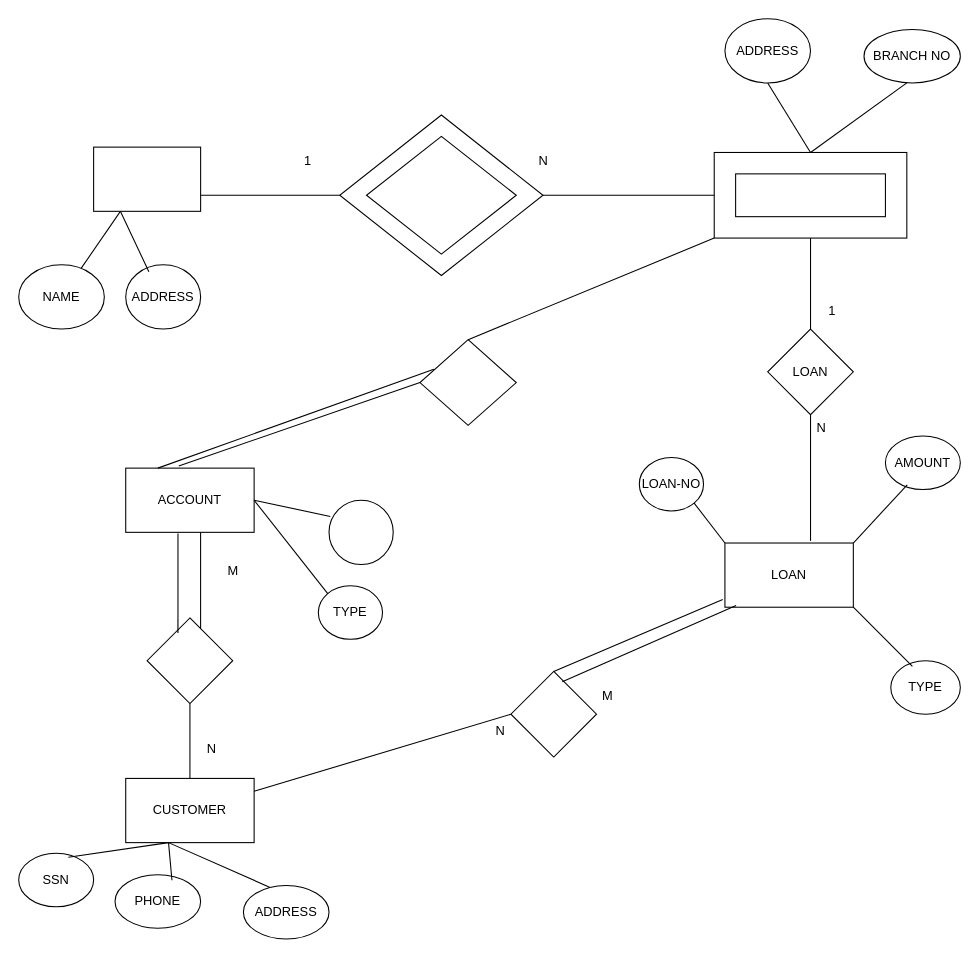
This 979x958 diagram has some shape labels left out. Here are the shapes that lost their labels. From the top down, the centre of each, then its label:
At (147,178): "BANK".
At (440,194): "BRANCHES".
At (810,195): "BANK-BRANCH".
At (467,382): "ACCTS".
At (360,531): "BALANCE".
At (189,660): "A-C".
At (553,713): "L-C".
